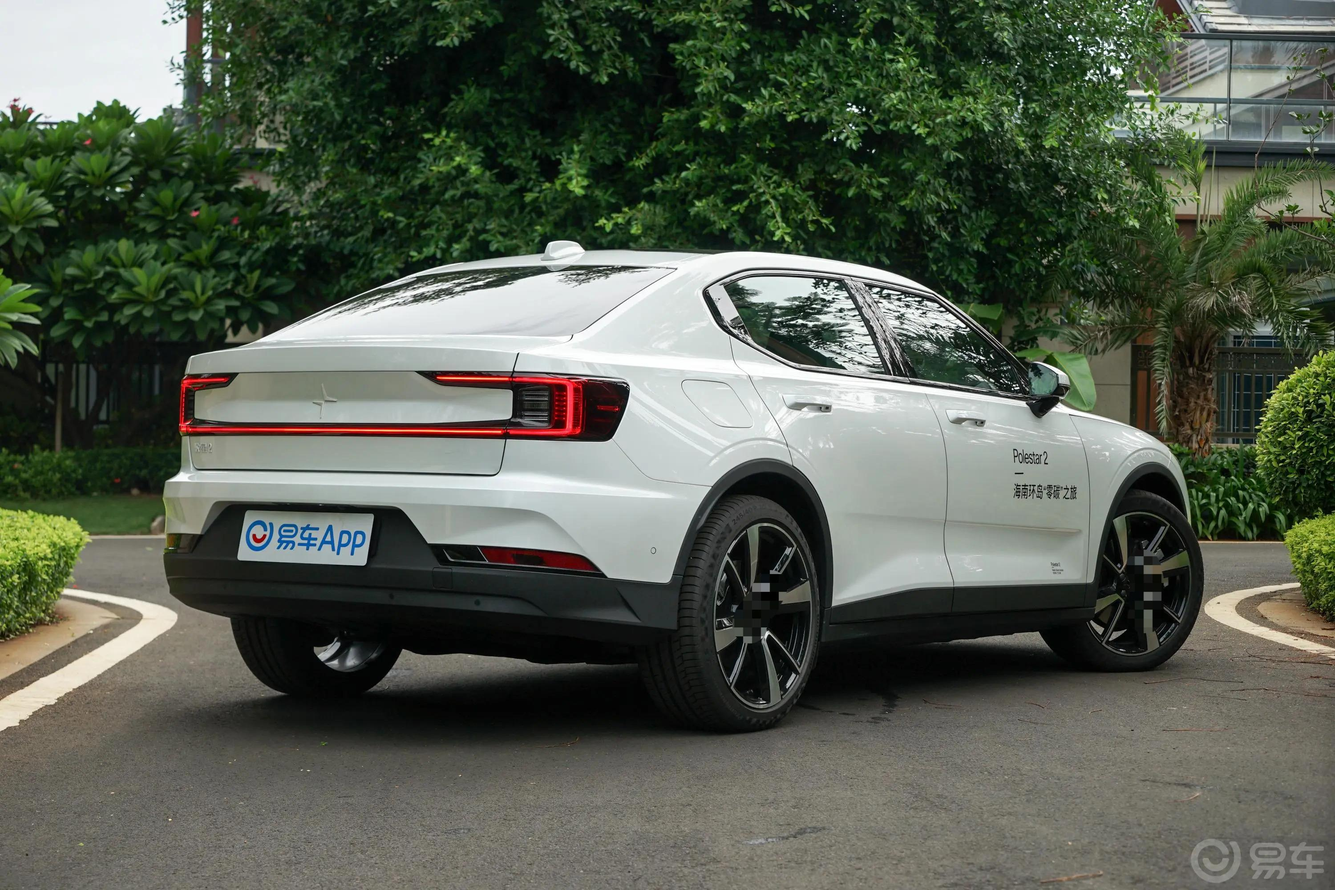Polestar: (313, 383, 337, 418)
